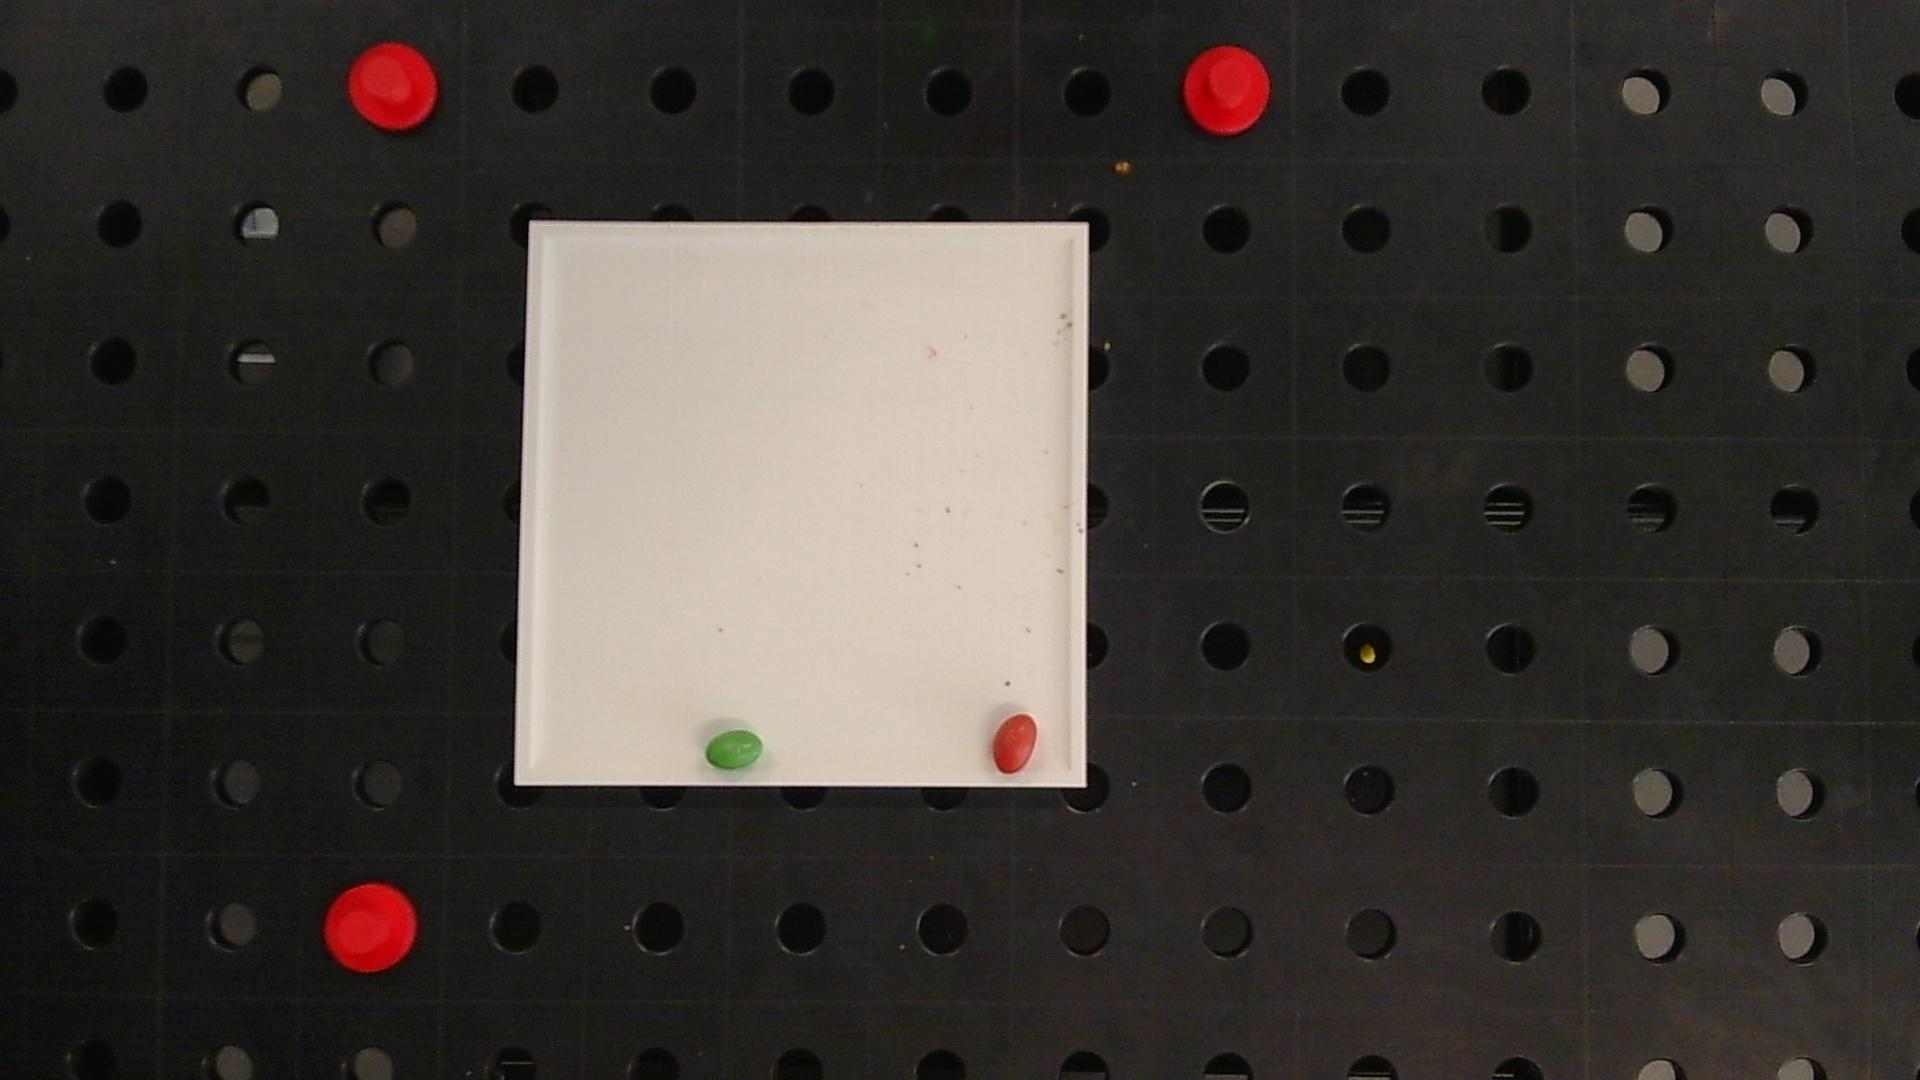green: (705, 729, 764, 767)
red: (993, 715, 1039, 775)
